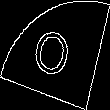O_S: (32, 23, 78, 87)
